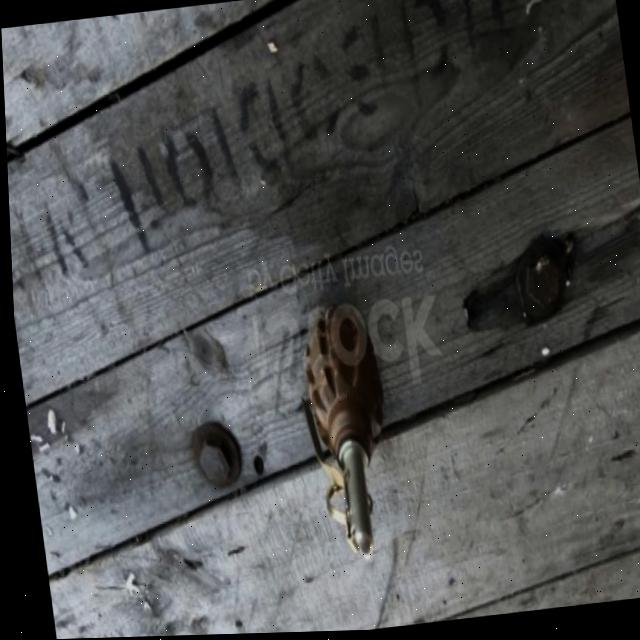grenade: (282, 291, 398, 570)
